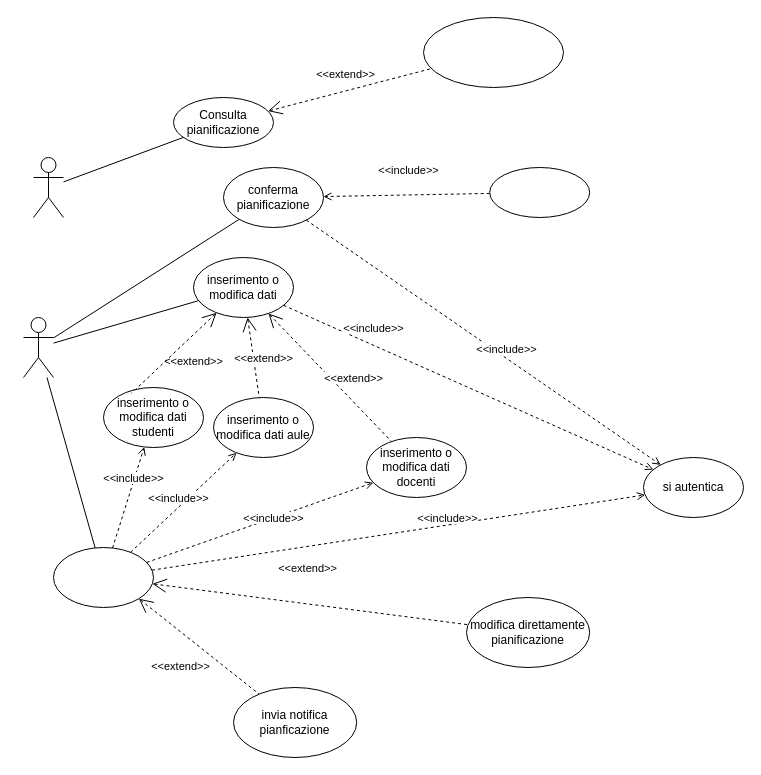
This 761x775 diagram has some shape labels left out. The box of each missing label's shape, as (x1, y1, x2, y2) in pixels:
Accetta o rifiuta pianificazione: (422, 16, 564, 88)
crea nuova pianificazione: (52, 546, 154, 608)
Docente: (32, 156, 64, 218)
Gestore: (22, 316, 54, 378)
invia mail di conferma: (489, 166, 590, 218)
